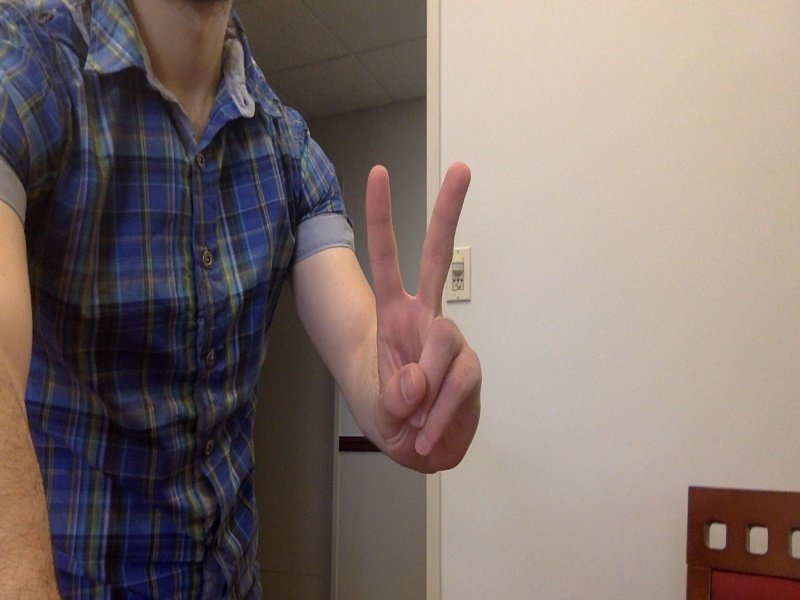2-hand: (362, 159, 491, 473)
